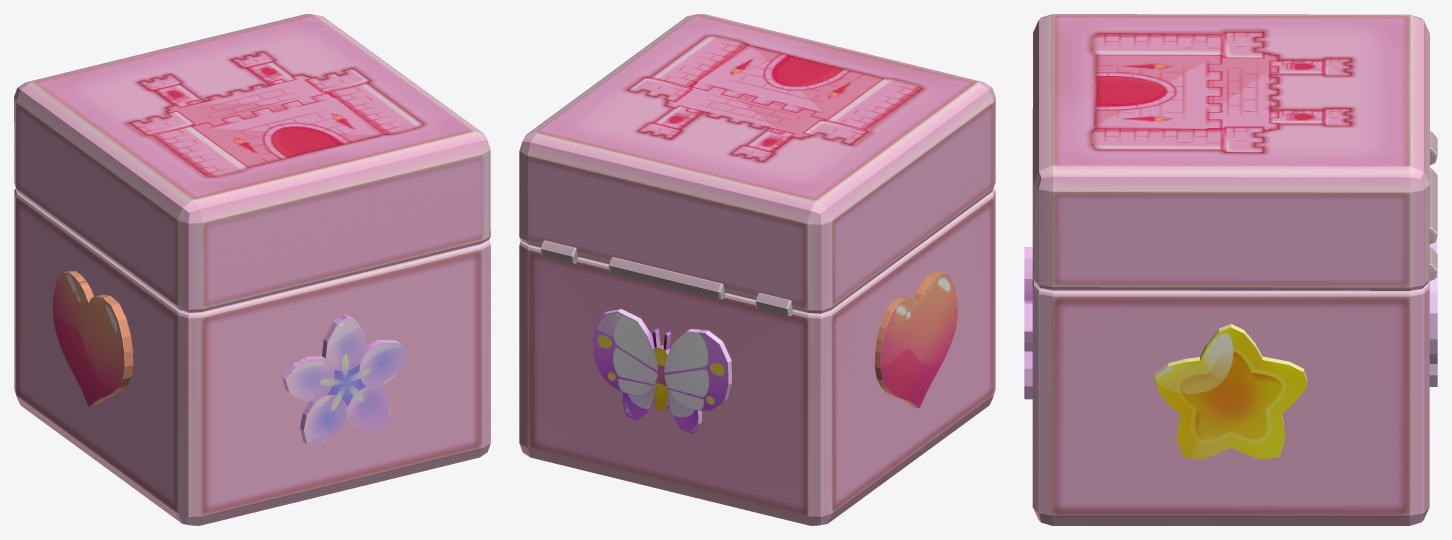
Rendered from prinegg1.fbx.
3 renders of one model, left to right at view 1: azimuth 30°, elevation 25°; view 2: azimuth 150°, elevation 25°; view 3: azimuth 270°, elevation 25°, orthographic. The views are drawn at different scales.
Parts seen in each view (by area): view 1: Egg1; view 2: Egg1; view 3: Egg1.
Boxes of the visible parts, x1,y1,x2,y2 form: Egg1: [14, 14, 490, 525]; Egg1: [519, 14, 995, 525]; Egg1: [1024, 14, 1437, 525].
Bounding box in the file's own units: 19.33 × 18.43 × 19.2.
1 material, 1 textured.
